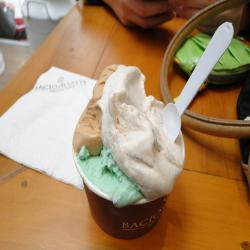icecream: (63, 64, 184, 238)
